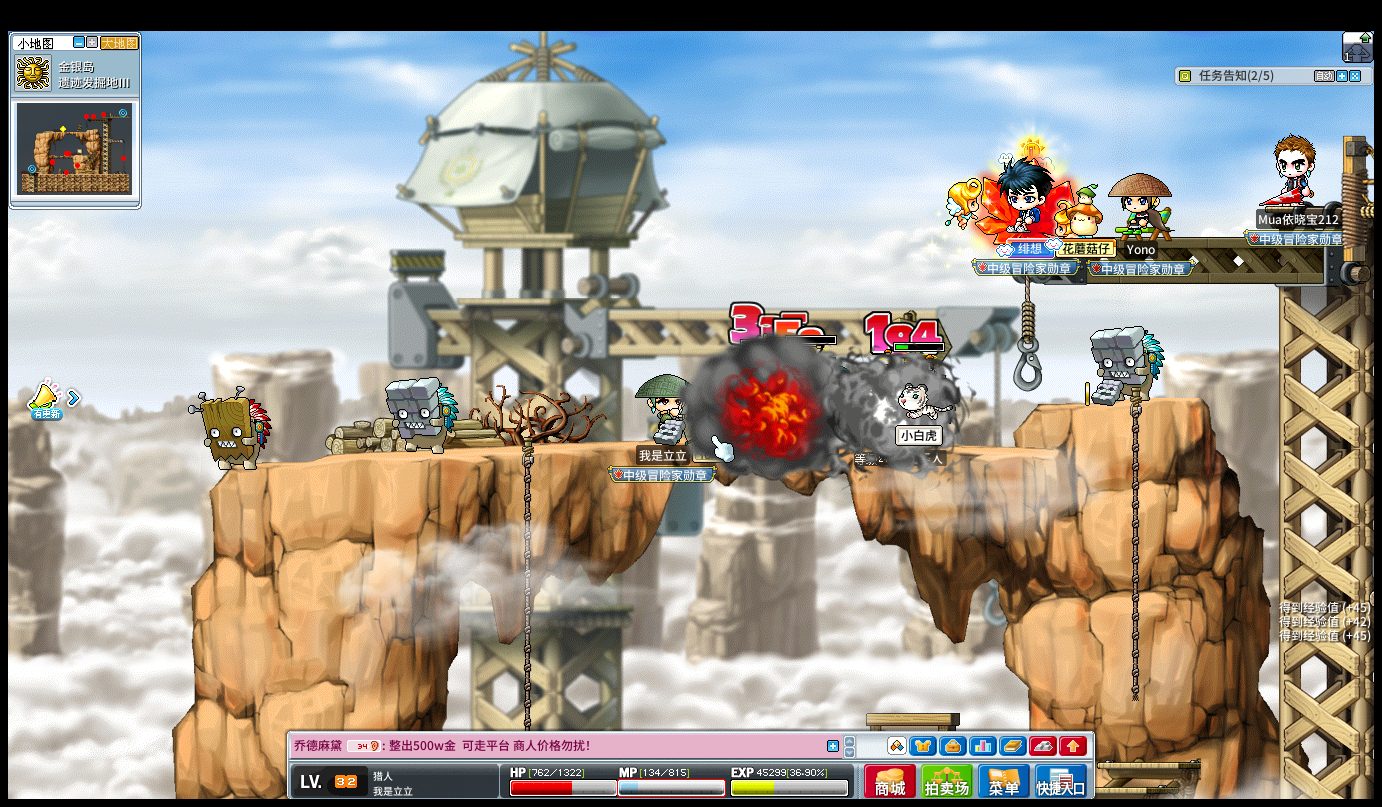floor: (209, 435, 735, 464), (1034, 395, 1210, 412)
monster: (193, 389, 273, 471), (1088, 324, 1165, 407), (384, 377, 458, 455)
rope: (1127, 382, 1142, 705), (521, 433, 534, 667)
